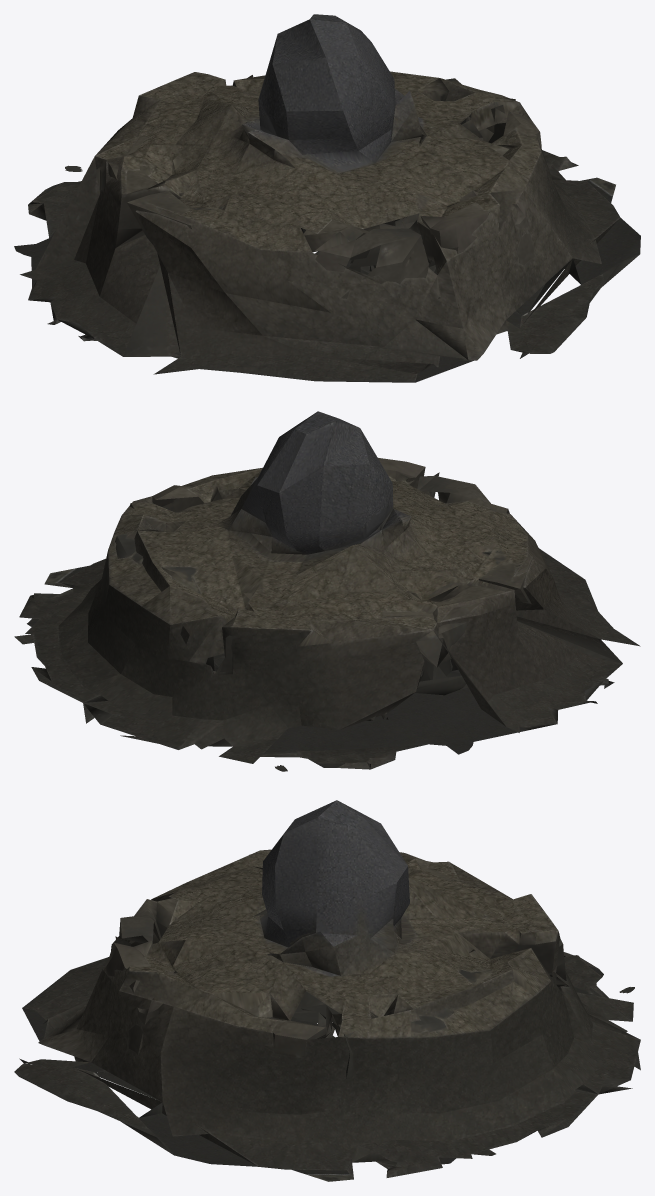
Rendered from m18-mote-shrine.glb.
3 renders of one model, top to bottom at view 1: azimuth 30°, elevation 25°; view 2: azimuth 150°, elevation 25°; view 3: azimuth 270°, elevation 25°, orthographic. The views are drawn at different scales.
Bounding box in the file's own units: 1.87 × 0.7446 × 1.79.
1 material, 1 textured.
